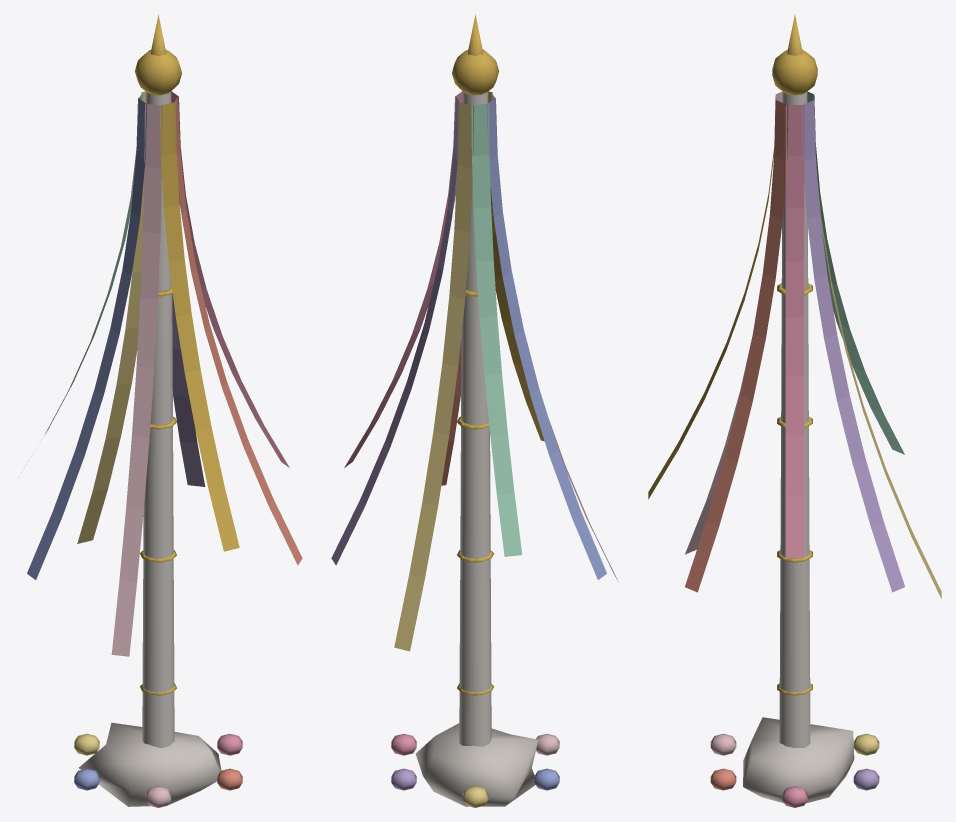
The model's file is rite_ribbon_pole.gltf.
The picture shows the model from 3 angles, left to right: view 1: azimuth 30°, elevation 25°; view 2: azimuth 150°, elevation 25°; view 3: azimuth 270°, elevation 25°; orthographic projection.
Visible parts, largest first — view 1: rite_ribbon_pole; view 2: rite_ribbon_pole; view 3: rite_ribbon_pole.
Boxes of the visible parts, left/top/right/bottom form: rite_ribbon_pole: left=27, top=14, right=302, bottom=807; rite_ribbon_pole: left=331, top=14, right=618, bottom=807; rite_ribbon_pole: left=648, top=15, right=941, bottom=807.
Size of what is drawn, in the model's own units: 1.6 by 4.65 by 1.6.
